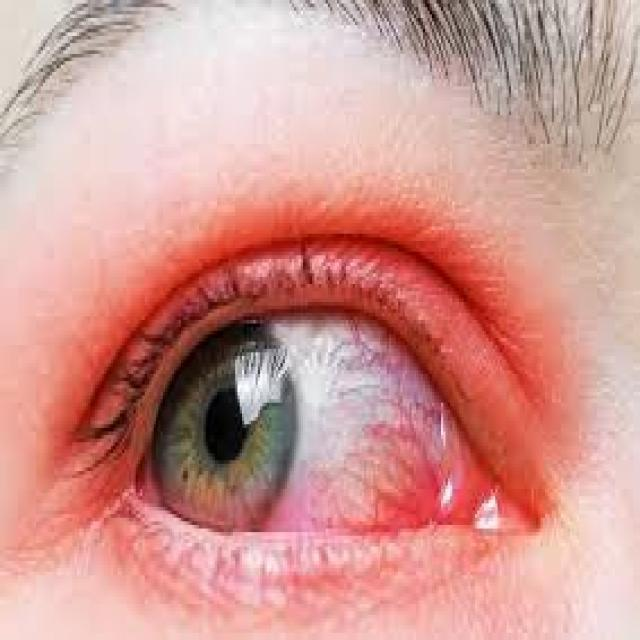Rosacea: (14, 178, 579, 611)
